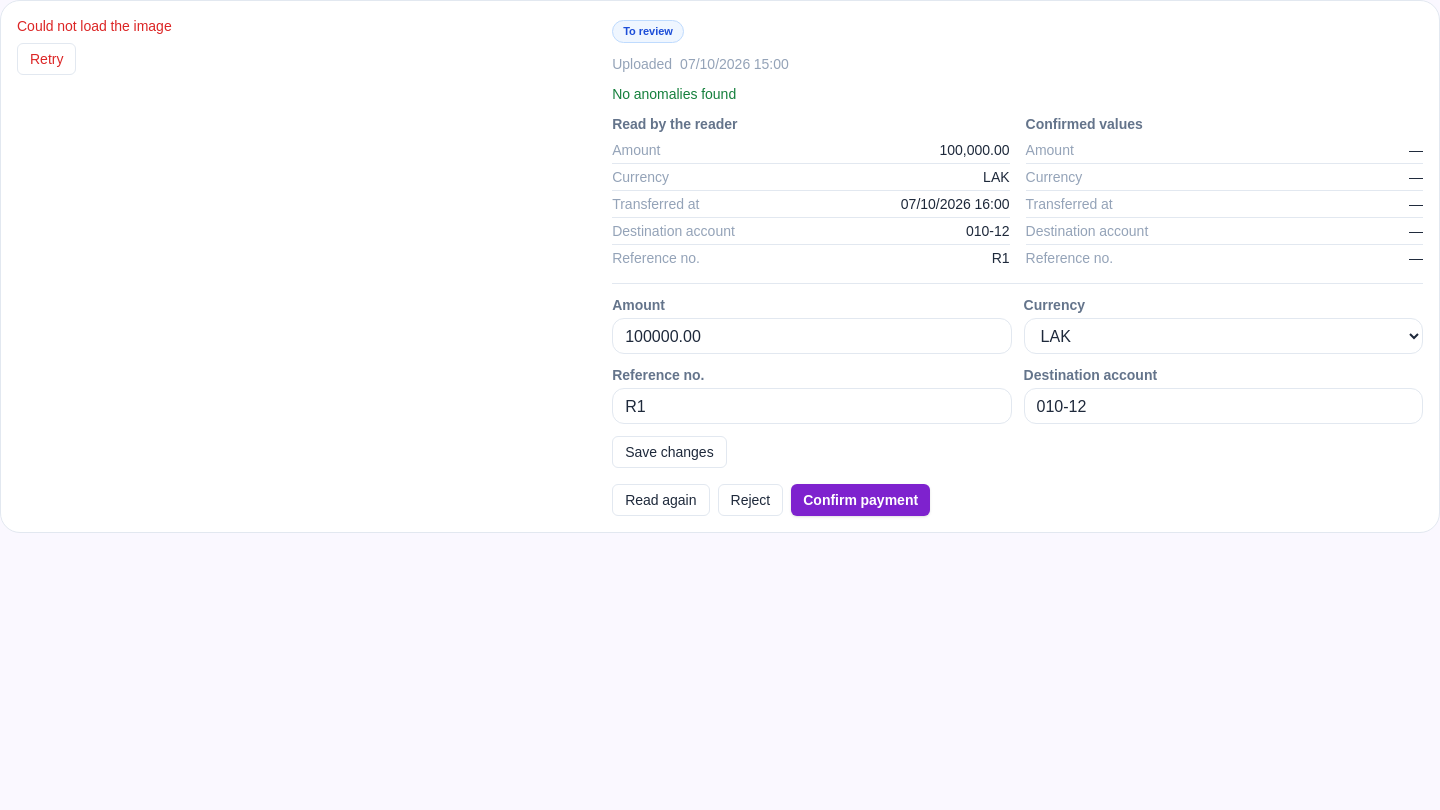
Test: SlipCard: ຢືນຢັນ / ປະຕິເສດ / ອ່ານໃໝ່ › ຢືນຢັນລົ້ມແບບ state conflict (ORDER_INVALID_STATE) → dialog ປິດ + toast error ຂໍ້ຄວາມຖືກຕ້ອງ
Click the button "Confirm payment".
click(861, 500)  # box x1=791 y1=484 x2=930 y2=516
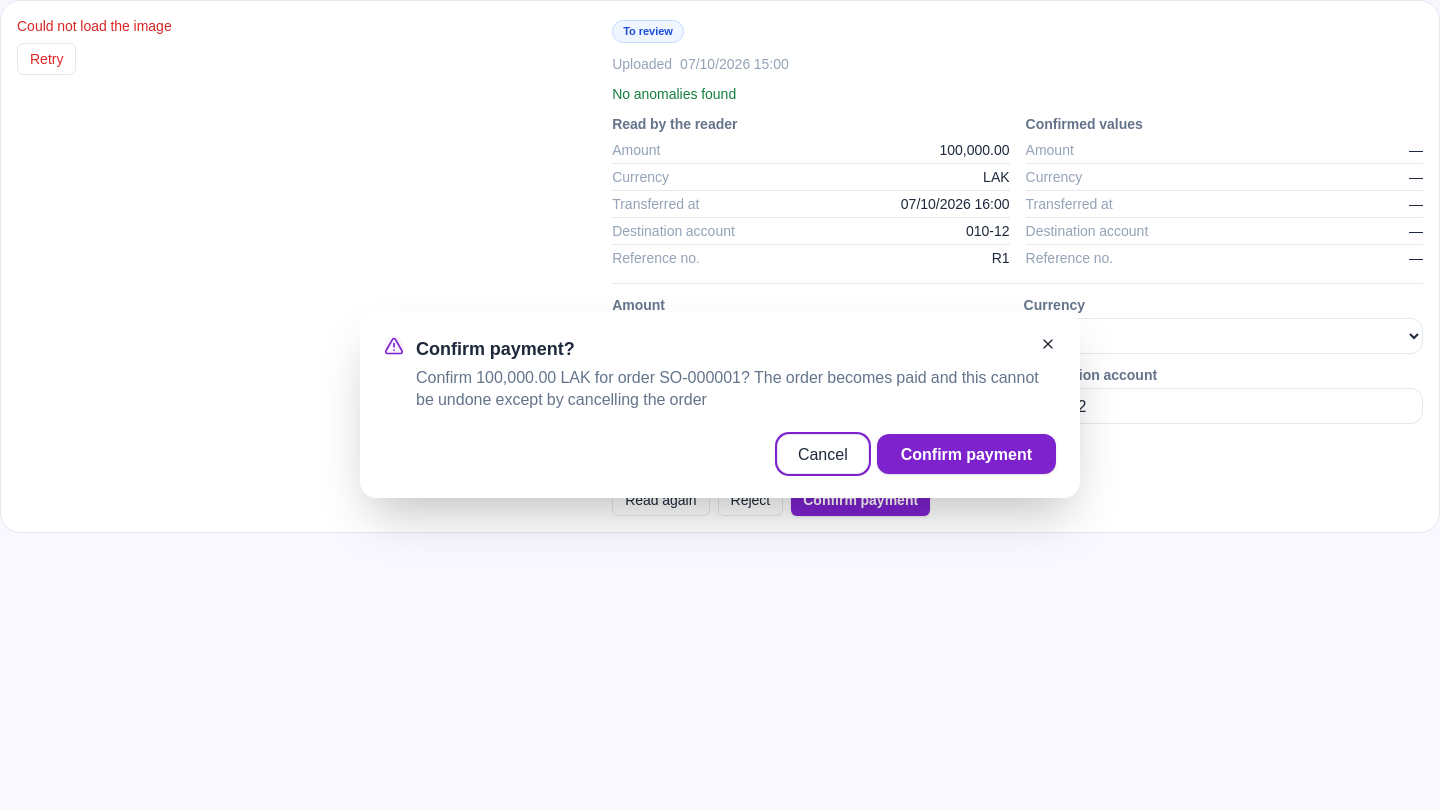
Click the button "Confirm payment".
click(966, 454)  # box x1=877 y1=434 x2=1056 y2=474
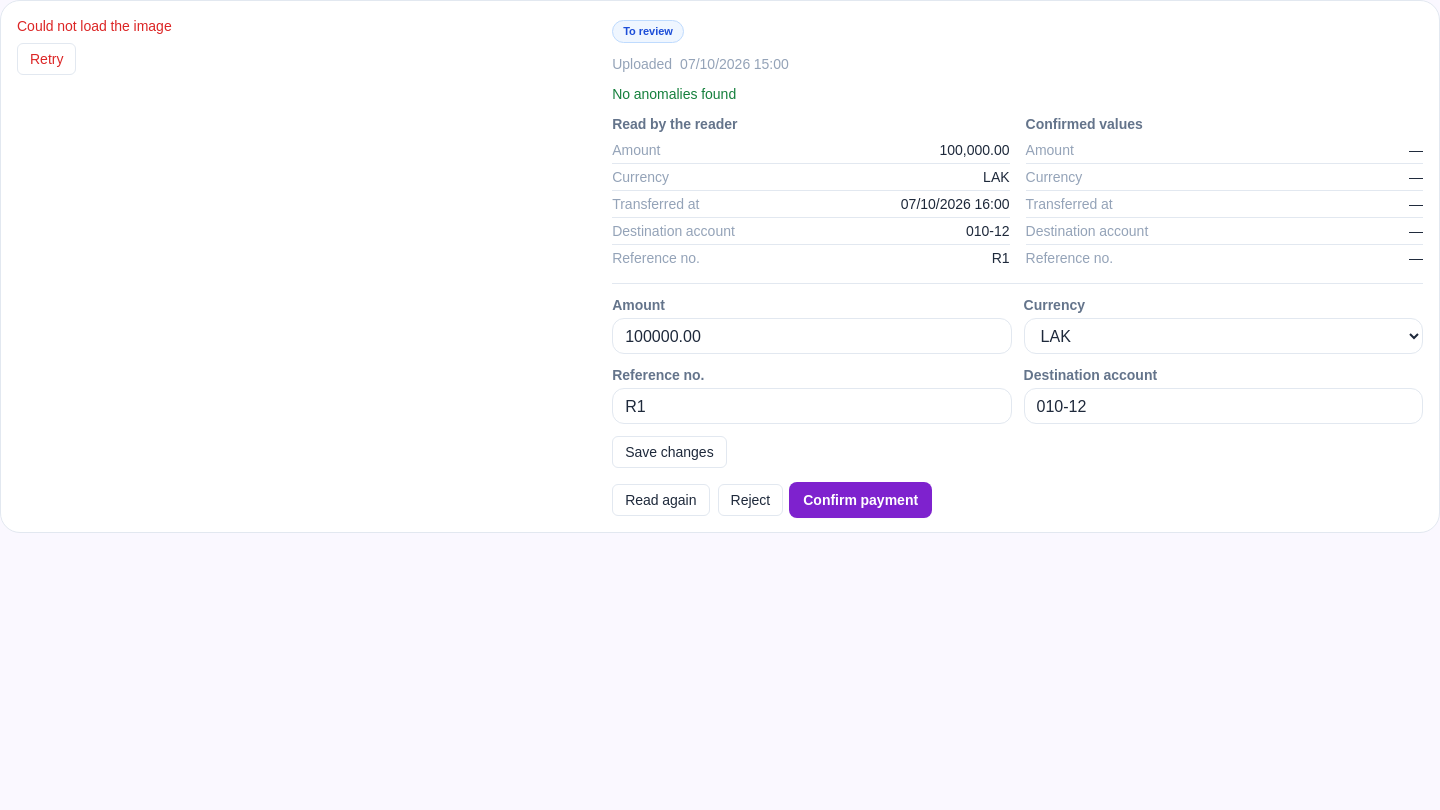
Expected: the dialog is gone
